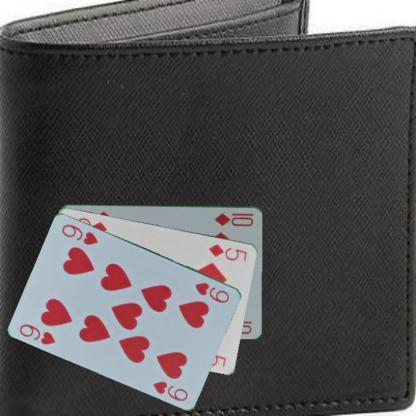10d: (212, 209, 255, 228)
5d: (206, 240, 249, 262)
9h: (17, 320, 58, 346), (193, 280, 231, 304)
